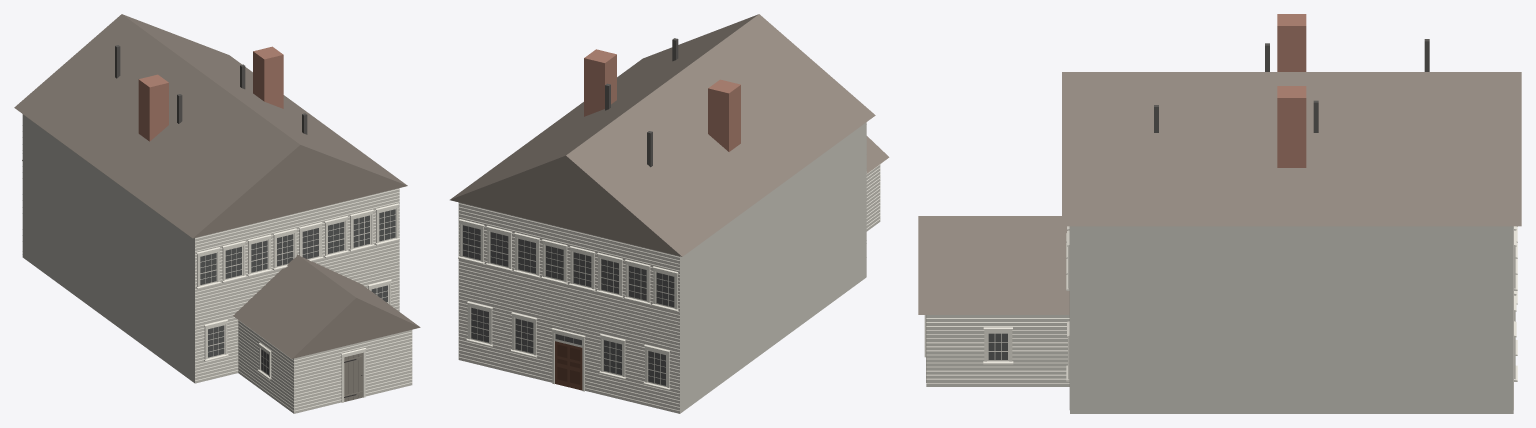
The model's file is recon_1835_blk_washington_dearborn_h3_01__inferred_1835.glb.
The picture shows the model from 3 angles, left to right: view 1: azimuth 30°, elevation 25°; view 2: azimuth 150°, elevation 25°; view 3: azimuth 270°, elevation 25°; orthographic projection. The views are drawn at different scales.
Parts seen in each view (by area): view 1: recon_1835_blk_washington_dearborn_h3_01__inferred_1835; view 2: recon_1835_blk_washington_dearborn_h3_01__inferred_1835; view 3: recon_1835_blk_washington_dearborn_h3_01__inferred_1835.
Part boxes in pixels (bbox=[...]): recon_1835_blk_washington_dearborn_h3_01__inferred_1835: bbox=[14, 14, 420, 413]; recon_1835_blk_washington_dearborn_h3_01__inferred_1835: bbox=[450, 14, 889, 413]; recon_1835_blk_washington_dearborn_h3_01__inferred_1835: bbox=[918, 14, 1521, 413].
Size of the model in its own units: 10.01 by 10.15 by 18.89.
